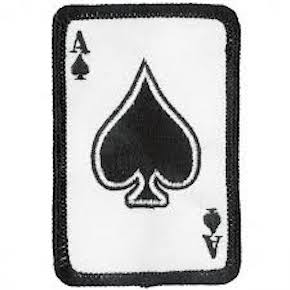AceOfSpades: (49, 1, 247, 286)
